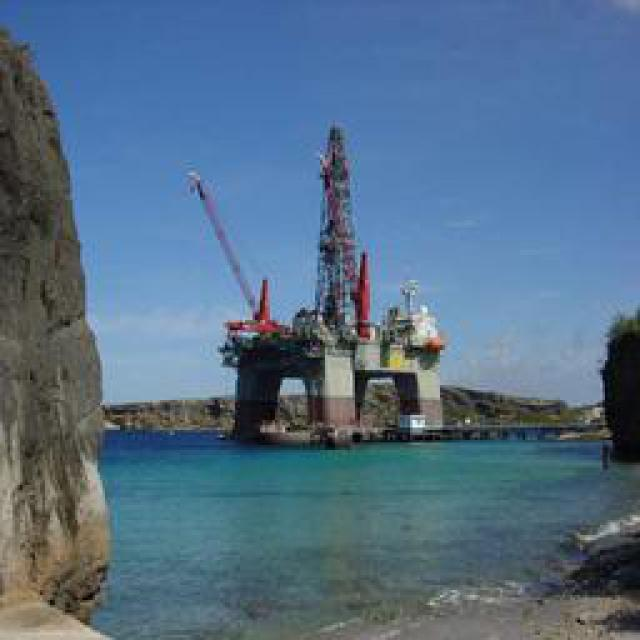Ship: (206, 125, 459, 448)
